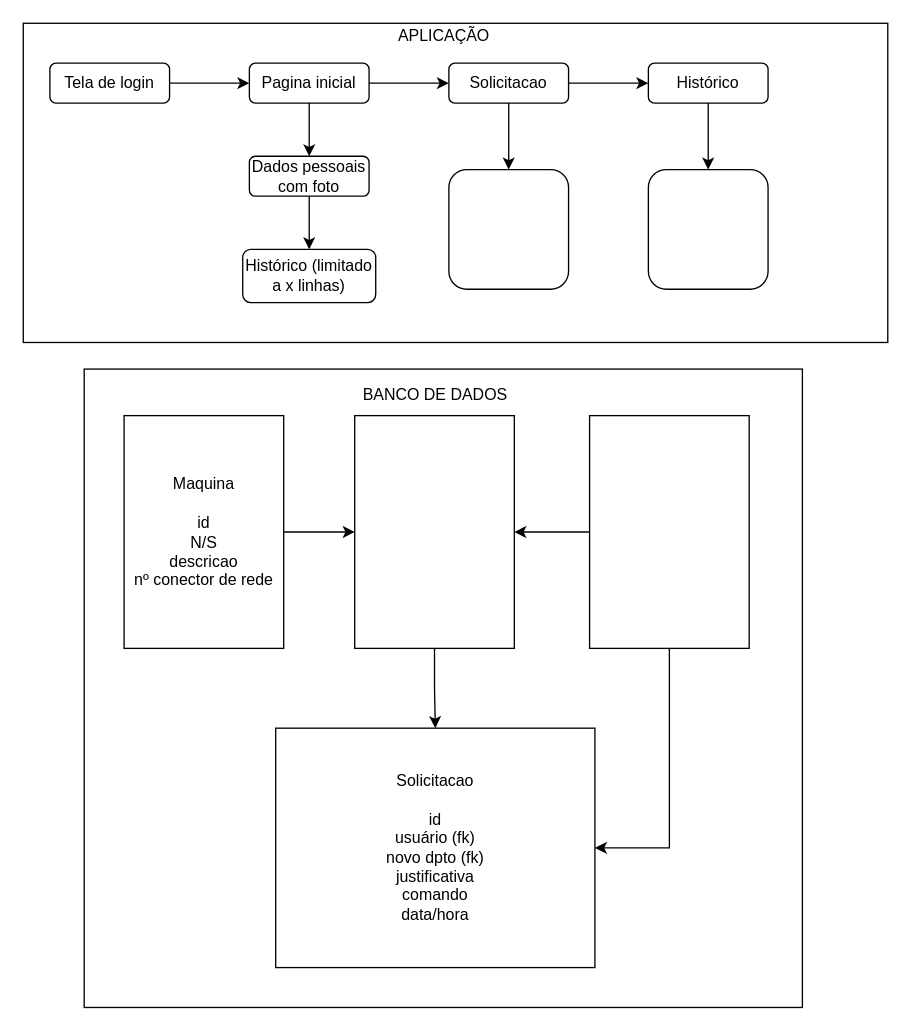
Image size: 911x1031. Some labels were removed from this diagram. The centre of each missing label's shape, as x and y in pixels:
"Colaborador id nome racf funcional Setor (FK) Maquina (FK) senha foto" belongs at pixel 433 531.
"novo dpto justificativa" belongs at pixel 508 228.
"traz todo o histórico de solicitações daquele usuário" belongs at pixel 707 228.
"VLAN / Depto id vlan nome dpto ip" belongs at pixel 668 531.
